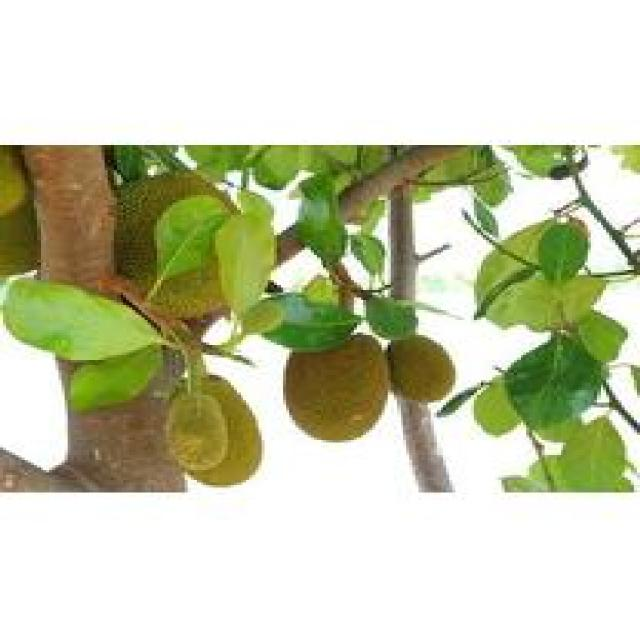Fruit: (255, 313, 403, 455)
